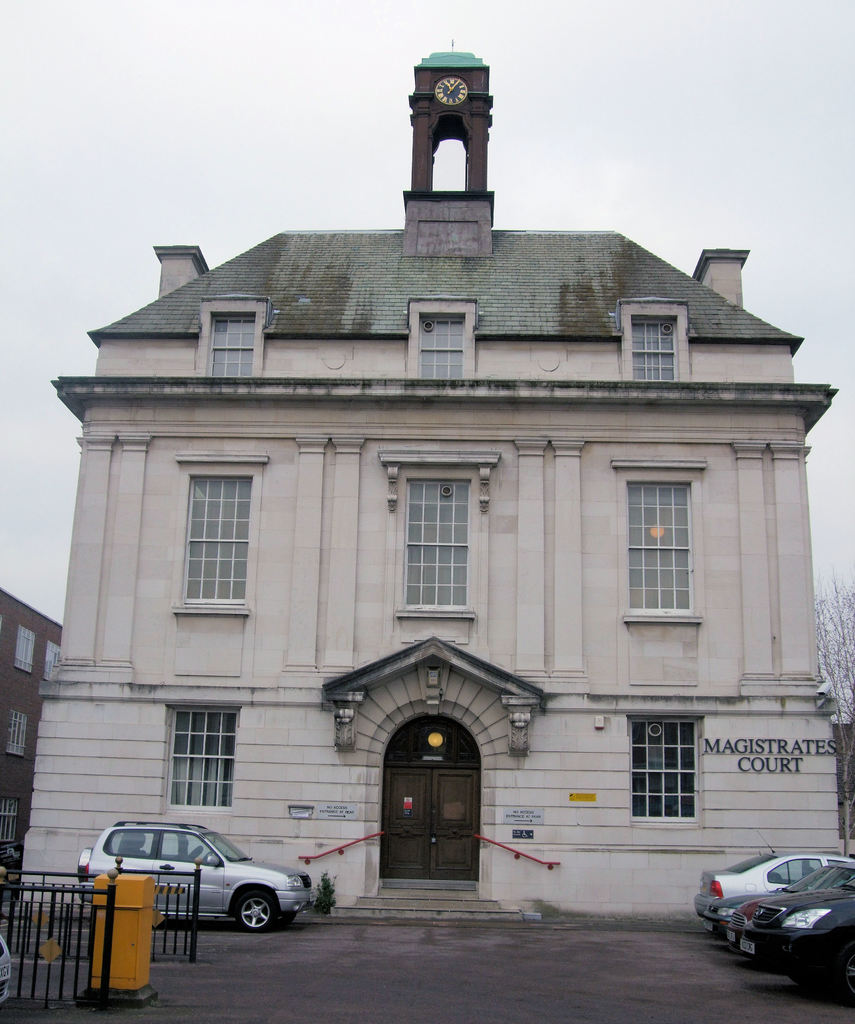Car: (74, 812, 313, 931), (726, 856, 854, 998), (684, 830, 854, 935)
